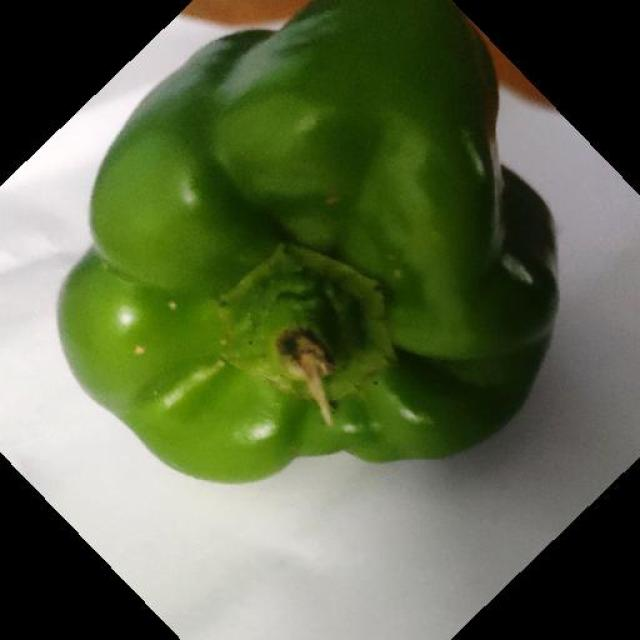Fresh_Capsicum: (170, 108, 489, 460)
